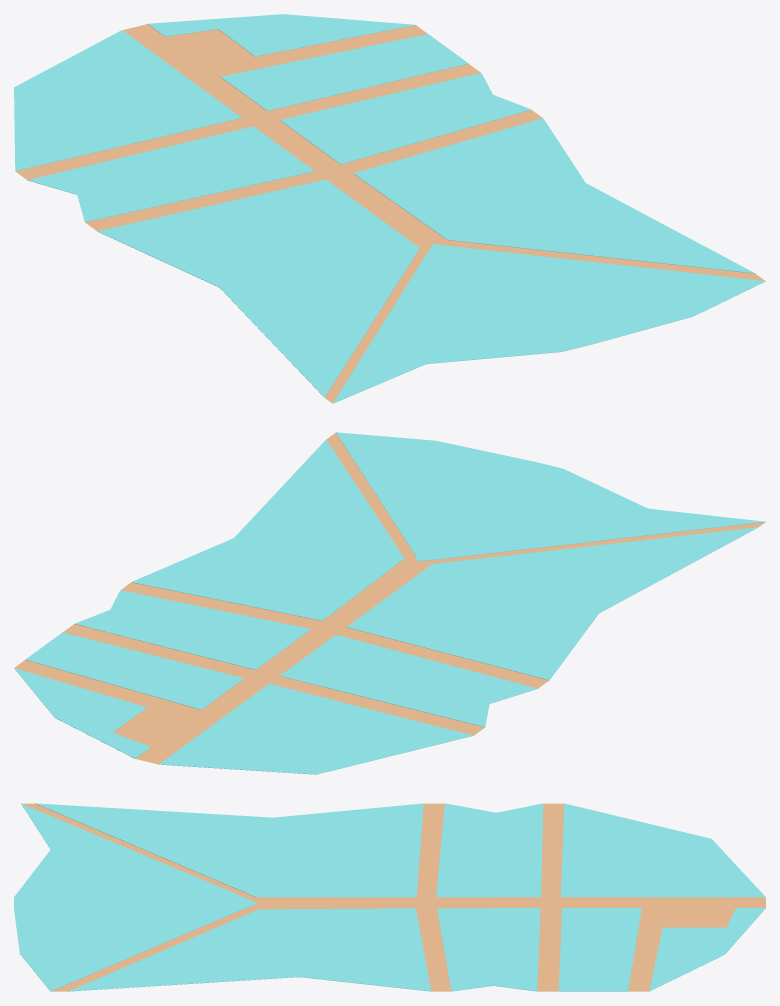
File: sol.FBX
The picture shows the model from 3 angles, top to bottom: view 1: azimuth 30°, elevation 25°; view 2: azimuth 150°, elevation 25°; view 3: azimuth 270°, elevation 25°; orthographic projection. The views are drawn at different scales.
Visible parts, largest first — view 1: Plane001; view 2: Plane001; view 3: Plane001.
Part boxes in pixels (box(x1,y1,x2,y2)): Plane001: box(14, 14, 765, 403); Plane001: box(14, 432, 765, 774); Plane001: box(14, 803, 765, 991).
Size of the model in its own units: 894 by 0.7029 by 1512.
